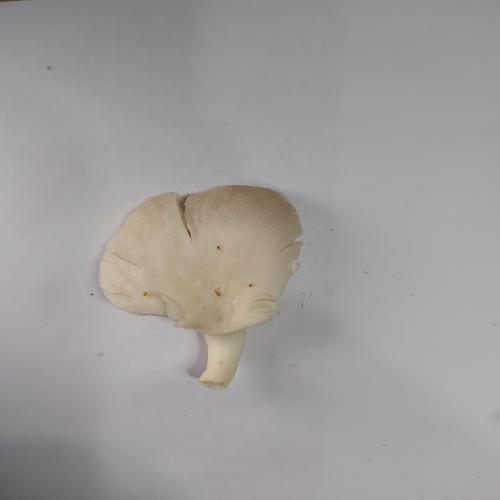Oyster Mushroom: (97, 184, 304, 391)
